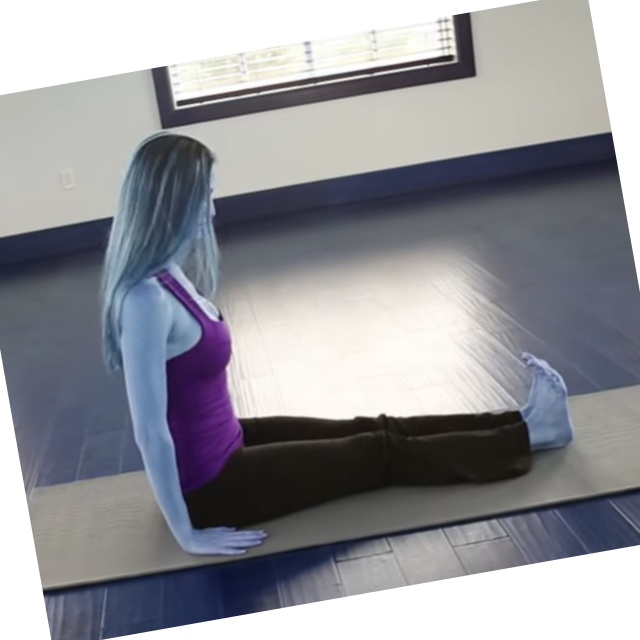Staff_Pose: (104, 132, 576, 557)
